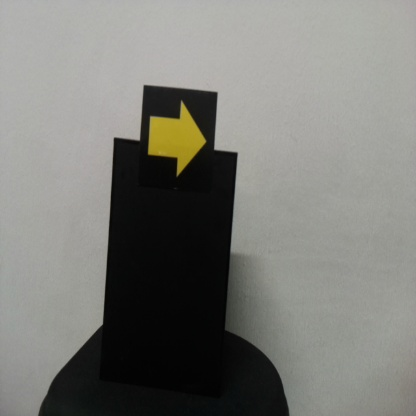id_3: (144, 87, 216, 194)
